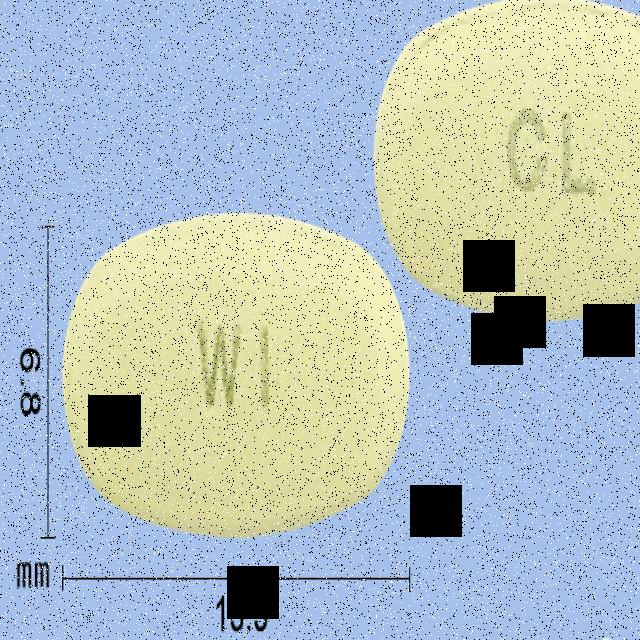Clathron: (60, 207, 413, 545), (372, 0, 640, 318)
